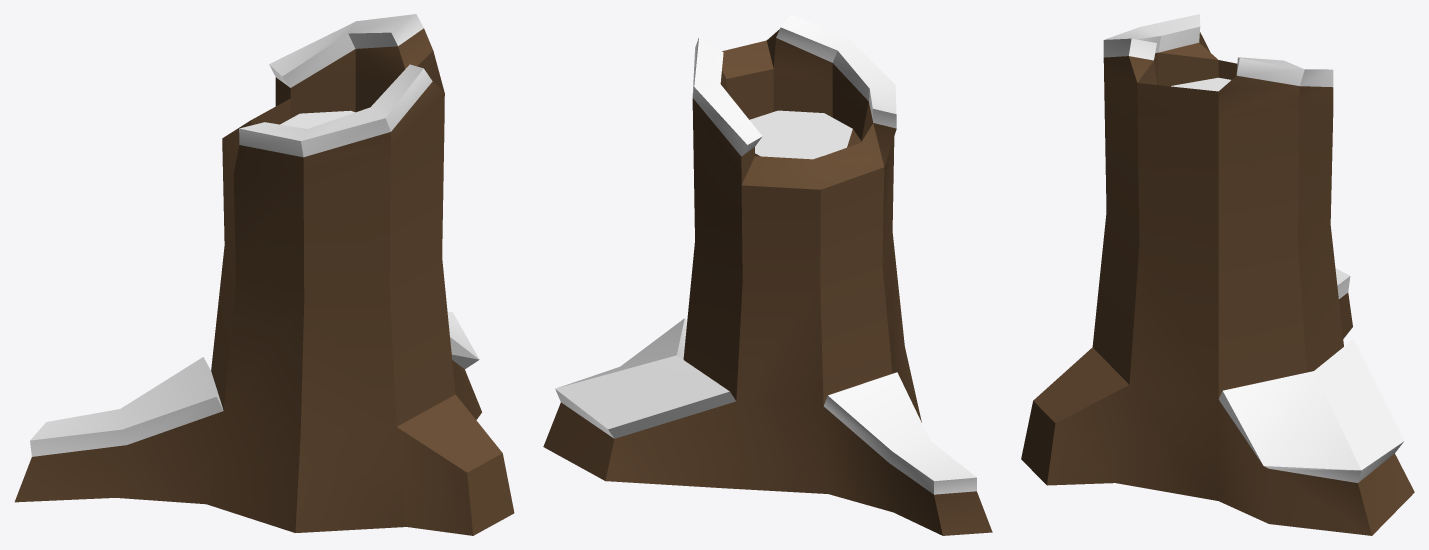
Rendered from Souche.fbx.
3 views of the same model, side by side, from view 1: azimuth 30°, elevation 25°; view 2: azimuth 150°, elevation 25°; view 3: azimuth 270°, elevation 25° (orthographic). The views are drawn at different scales.
Parts seen in each view (by area): view 1: Souche; view 2: Souche; view 3: Souche.
Part boxes in pixels (left/top/right/bottom): Souche: left=14, top=14, right=514, bottom=535; Souche: left=543, top=14, right=992, bottom=535; Souche: left=1021, top=14, right=1414, bottom=535.
Bounding box in the file's own units: 104 × 91.05 × 76.17.
